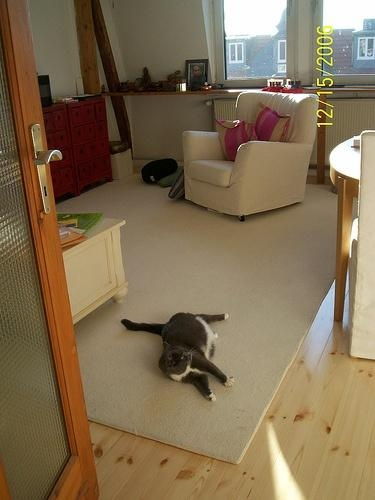cat: (119, 308, 234, 404)
chair: (180, 90, 313, 214)
